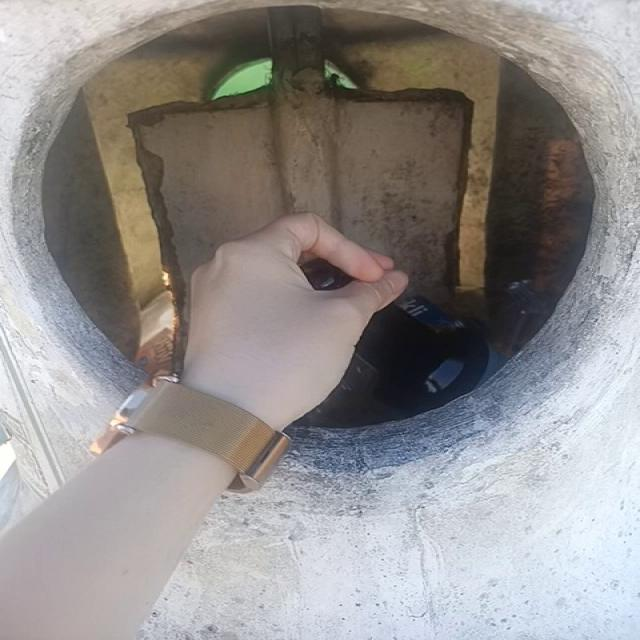glass: (356, 303, 492, 418), (301, 260, 352, 290)
